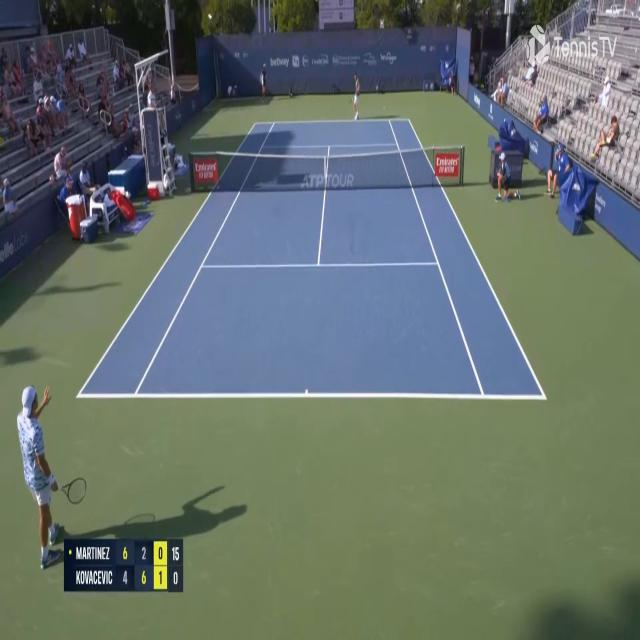tennis-player: (21, 378, 88, 570), (351, 70, 361, 121)
